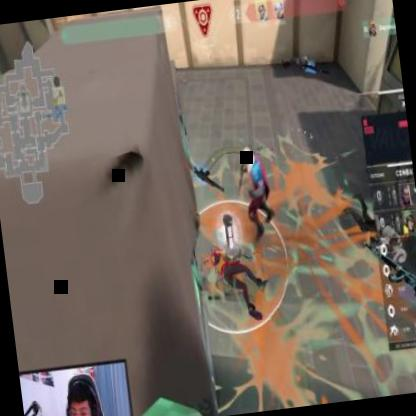enemy: (240, 143, 277, 240)
enemy_head: (240, 146, 254, 165)
